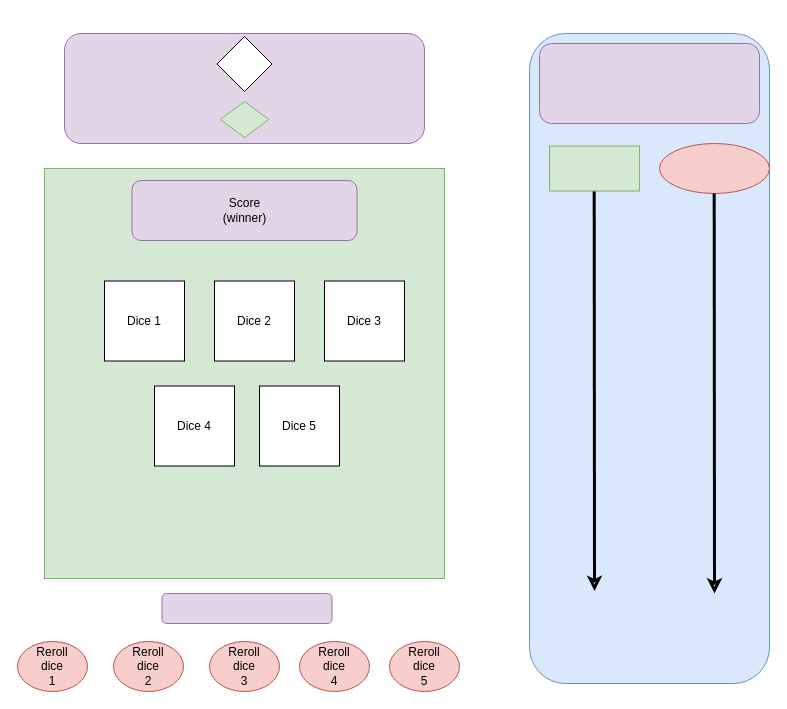
This 787x709 diagram has some shape labels left out. Here are the shapes that lost their labels. From the top down, the centre of each, then its label:
(244,64): Player 1
(649,83): Player 1 Score Card
(244,119): Score
(594,168): ways to score x13
(714,168): button to pick way to score x13
(246,608): Reroll Buttons
